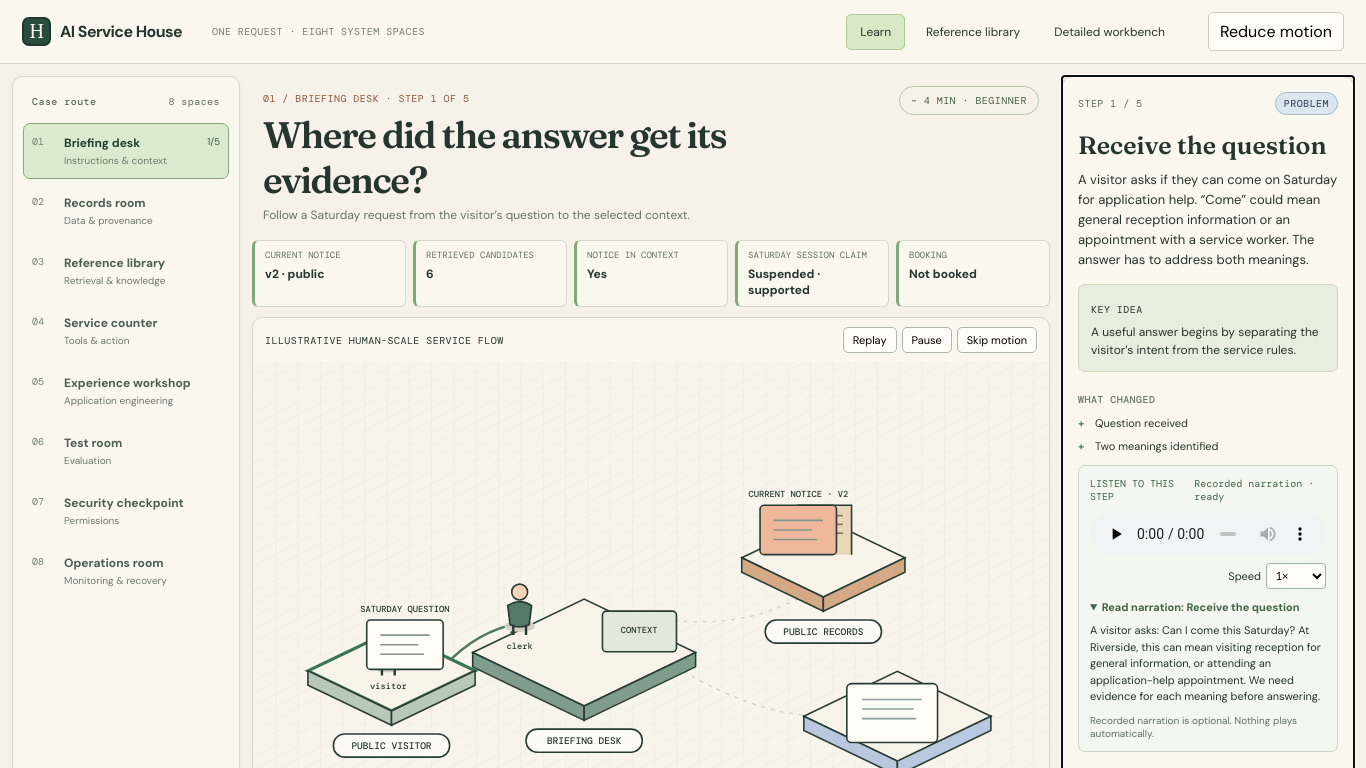
Test: lesson preserves route on skip, offers reduced motion, and checks explanation
Earlier steps of the test are not shown.
Later steps or results of the test are not shown.
Click the button "Reduce motion".
click(1276, 32)  # box [1208,12,1344,51]
(page scrolled)
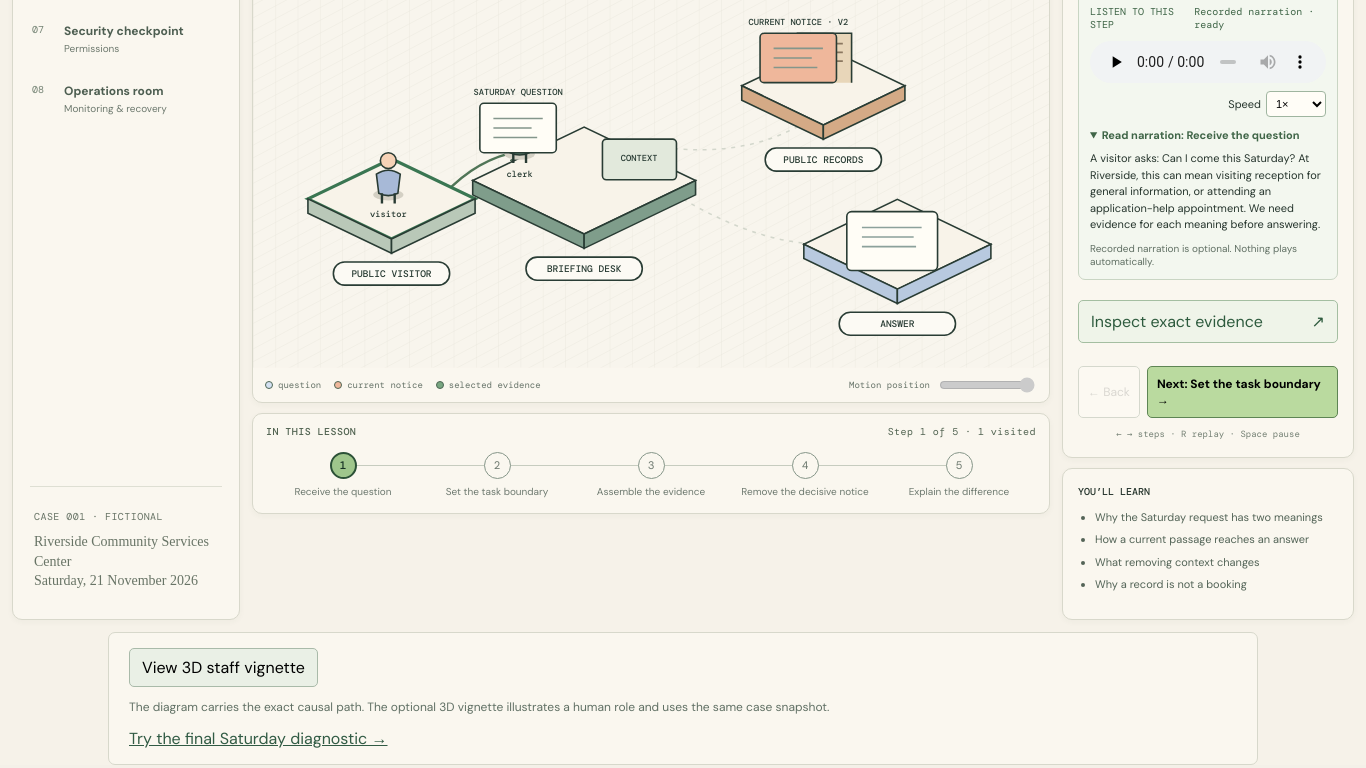
Now the slider labelled "Motion position" is disabled, box [939,377,1035,393]
